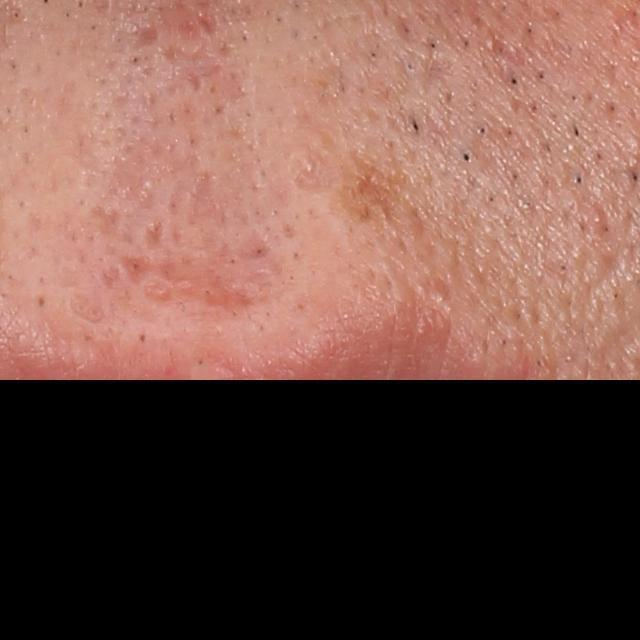atrophic_scar: (154, 254, 260, 319), (122, 253, 156, 291), (121, 23, 157, 55), (144, 214, 171, 254)
